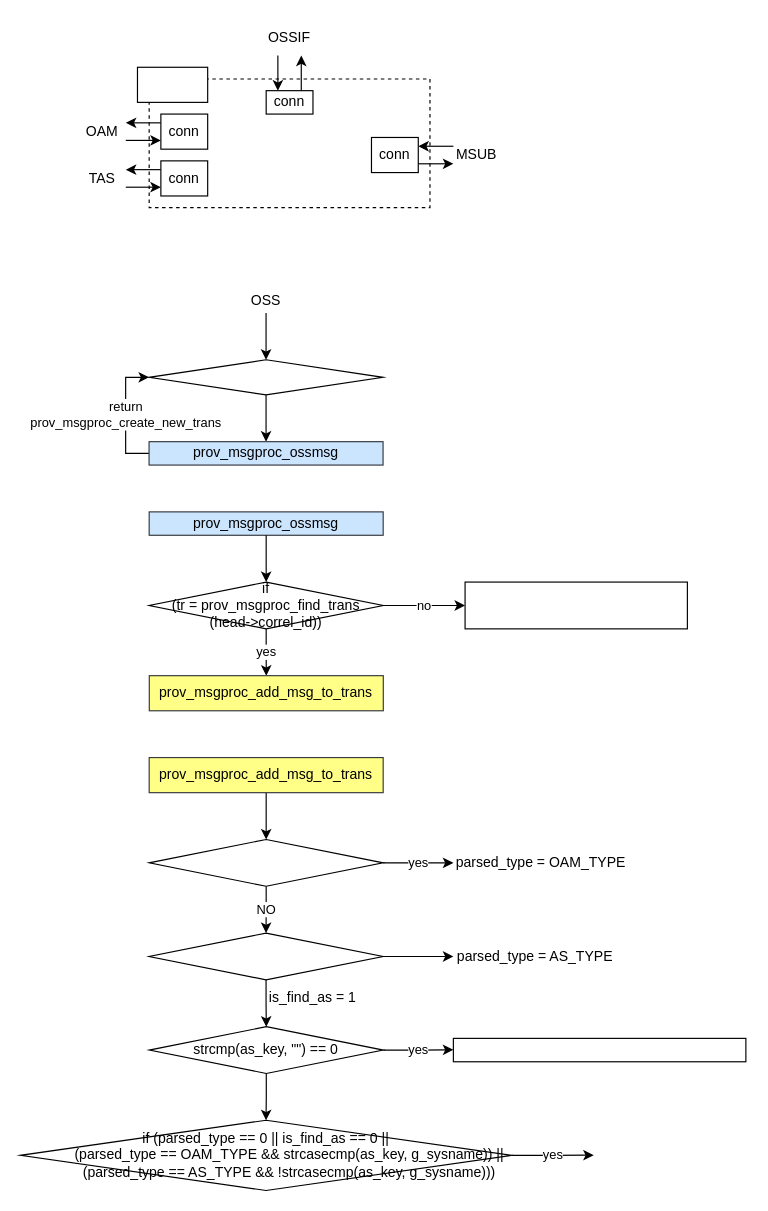
Image size: 768x1211. Some labels were removed from this diagram. The centre of each missing label's shape, as x and y in pixels:
(recv_size = conn->recvmsg) > 0: the point at 265,377
MPROV: the point at 172,84
prov_as_mmc_parser >= 0: the point at 265,956
prov_mmc_parser >= 0: the point at 265,862
prov_mmcmap_get_as_name(mmc, as_key): the point at 599,1049
return prov_msgproc_create_new_trans;: the point at 575,605
